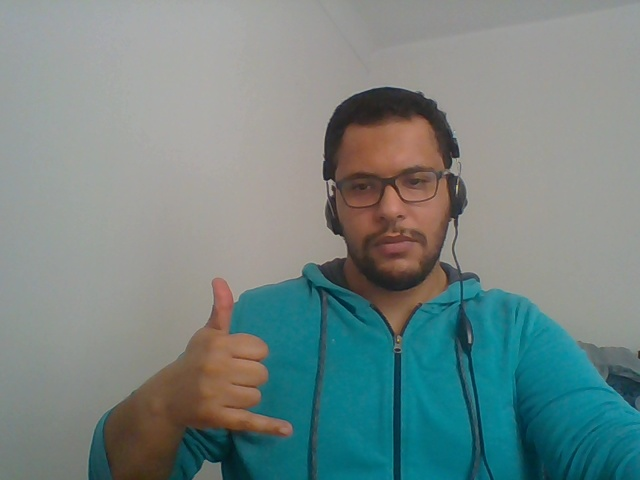callme: (108, 252, 307, 470)
